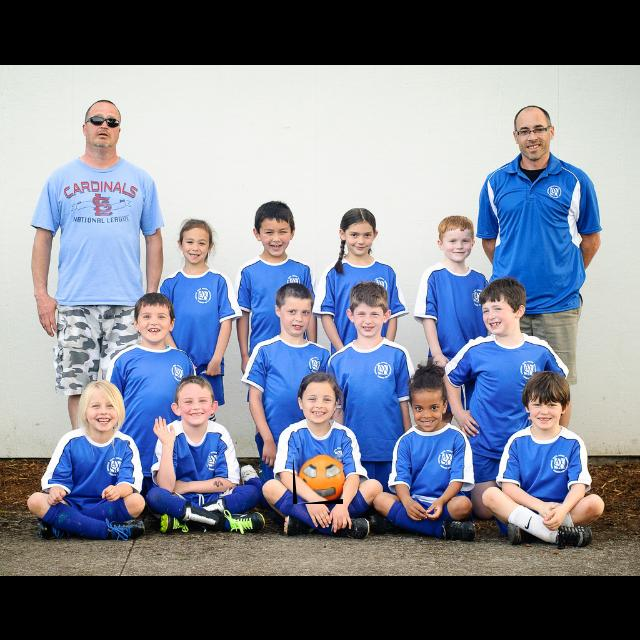Football: (293, 454, 343, 504)
